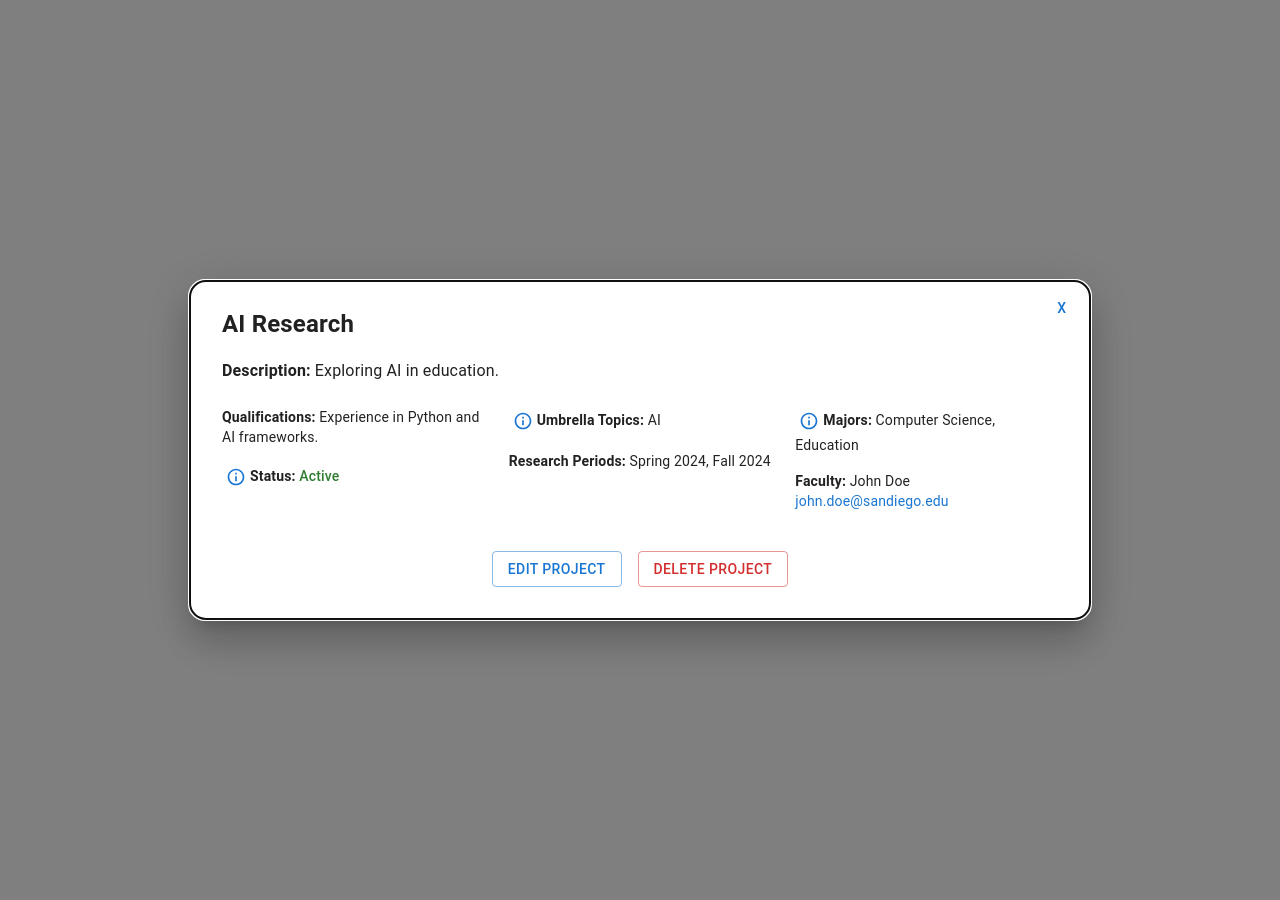
PostDialog Component › when user is admin › clicking delete project opens "are you sure you want to delete?" popup
The image size is (1280, 900).
Click the button "Delete Project".
click(713, 569)  # box [638,551,788,588]
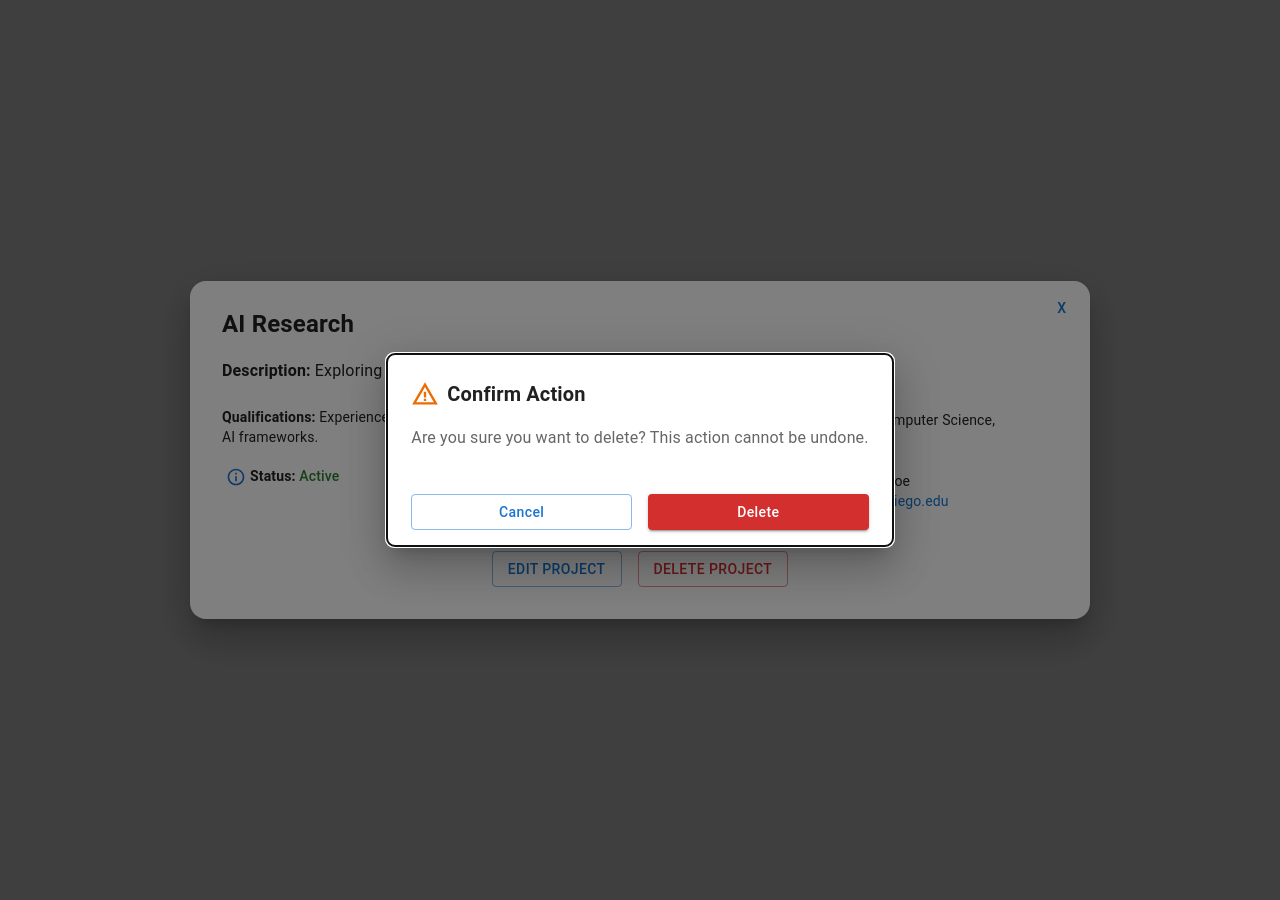
Expected: the text "Are you sure you want to delete?" is shown, [411,426,869,450]
